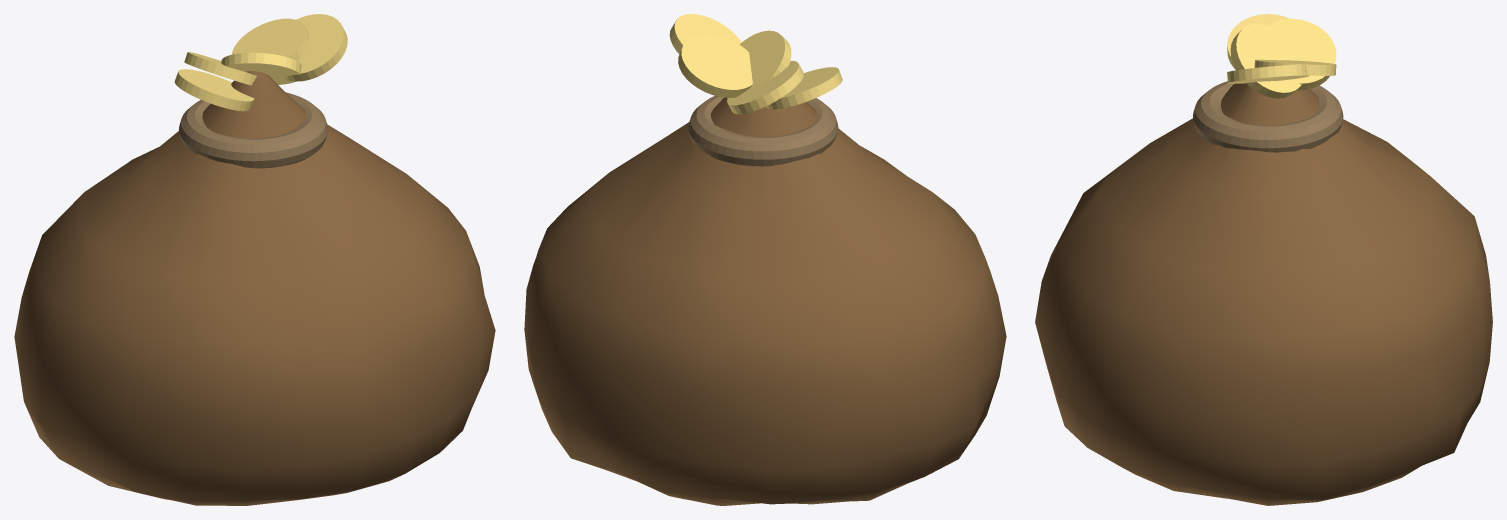
Rendered from sack.glb.
3 views of the same model, side by side, from view 1: azimuth 30°, elevation 25°; view 2: azimuth 150°, elevation 25°; view 3: azimuth 270°, elevation 25° (orthographic).
Parts seen in each view (by area): view 1: Sack; view 2: Sack; view 3: Sack.
Boxes of the visible parts, x1=… form: Sack: x1=14, y1=14, x2=495, y2=505; Sack: x1=524, y1=14, x2=1006, y2=505; Sack: x1=1035, y1=14, x2=1492, y2=505.
Size of the model in its own units: 0.5408 by 0.5164 by 0.5044.
